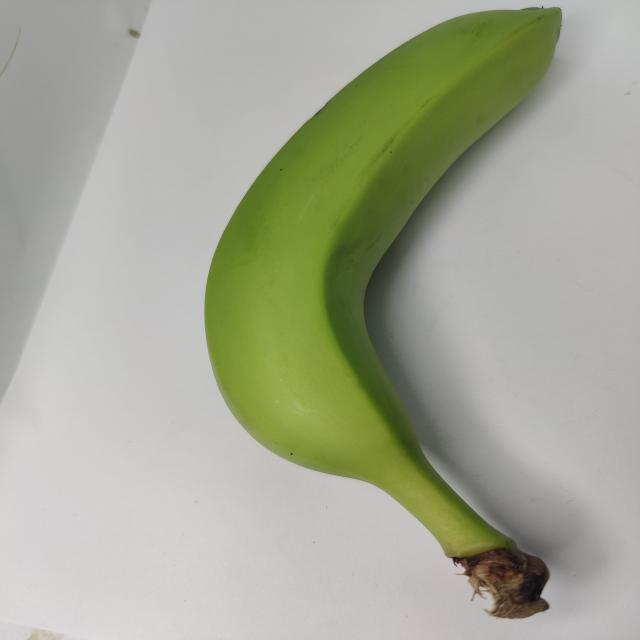raw: (122, 0, 634, 629)
